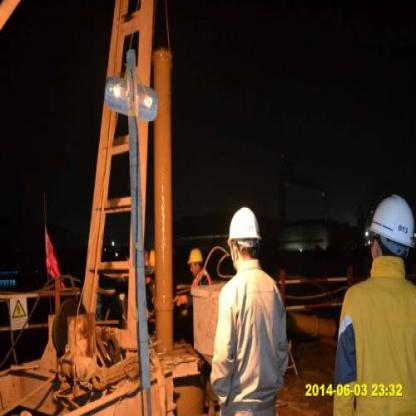helmet: (367, 193, 413, 266), (229, 202, 262, 268), (185, 245, 206, 278)
